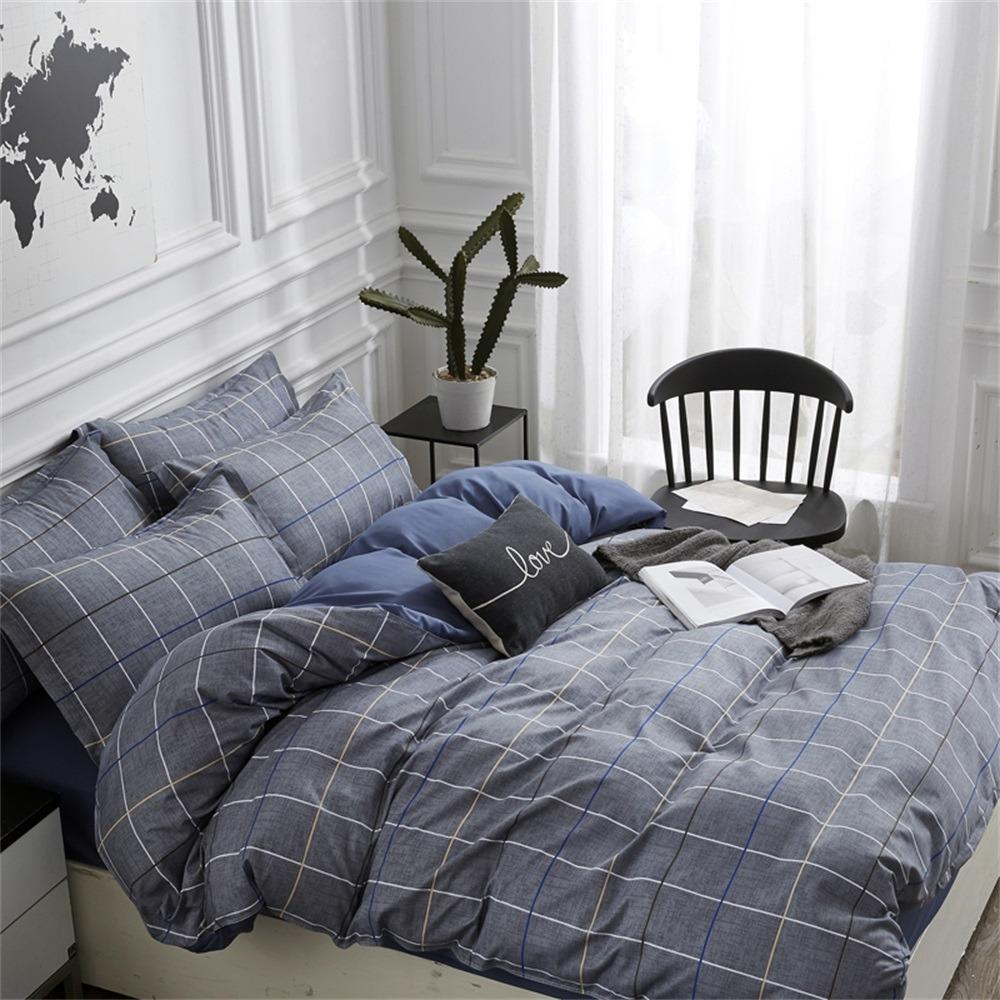bed: (135, 408, 1000, 1000)
